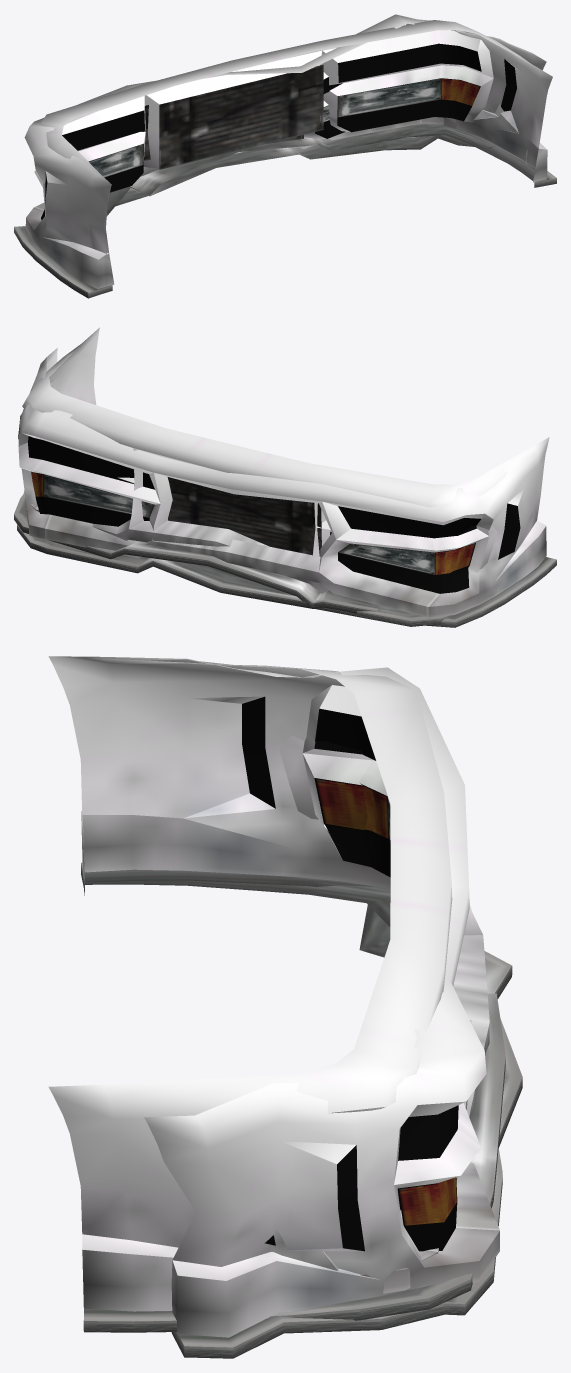
Rendered from fbmp_a_l.glb.
The picture shows the model from 3 angles, top to bottom: view 1: azimuth 30°, elevation 25°; view 2: azimuth 150°, elevation 25°; view 3: azimuth 270°, elevation 25°; orthographic projection. The views are drawn at different scales.
Visible parts, largest first — view 1: fbmp_a_l, fbmp_a_l_dam; view 2: fbmp_a_l_dam, fbmp_a_l; view 3: fbmp_a_l, fbmp_a_l_dam.
Boxes of the visible parts, box(x1,y1,x2,y2) form: fbmp_a_l: box(34, 20, 556, 292); fbmp_a_l_dam: box(14, 14, 546, 298); fbmp_a_l_dam: box(17, 348, 556, 627); fbmp_a_l: box(14, 327, 547, 626); fbmp_a_l: box(48, 656, 505, 1332); fbmp_a_l_dam: box(55, 656, 522, 1358).
Size of the model in its own units: 2.27 by 0.5891 by 0.9589.
4 materials, 4 textured.
